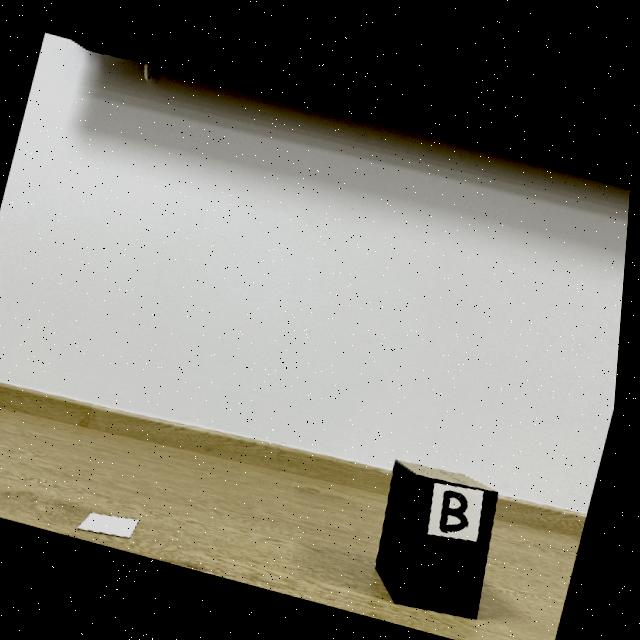B: (446, 481, 475, 523)
